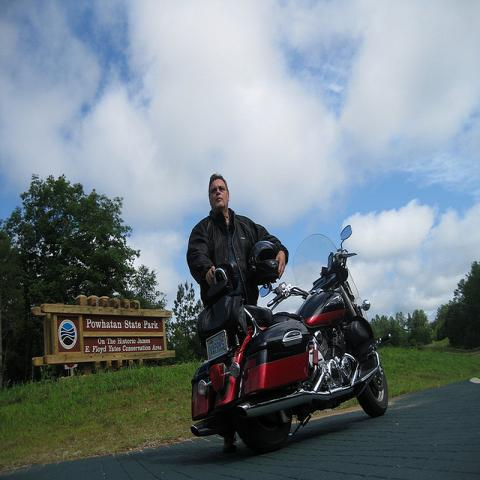motorcycle: (191, 220, 391, 452)
